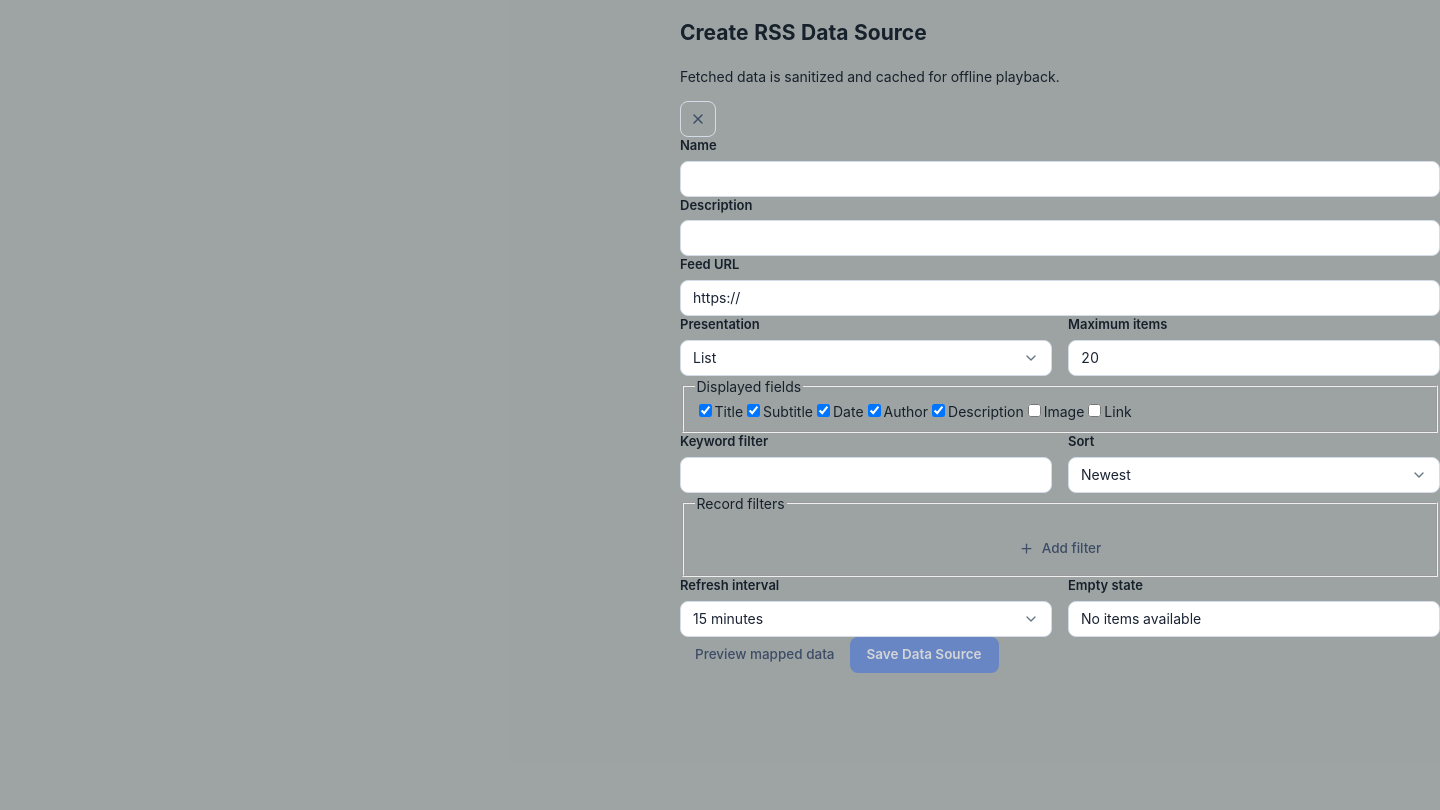
StructuredDataSourceEditor › offers a feed only the fields that feed publishes
The width and height of the screenshot is (1440, 810).
Replace the text in the field labelled "Feed URL" with "https://example.org/feed.xml" at (1060, 298), box [680,280,1439,316]
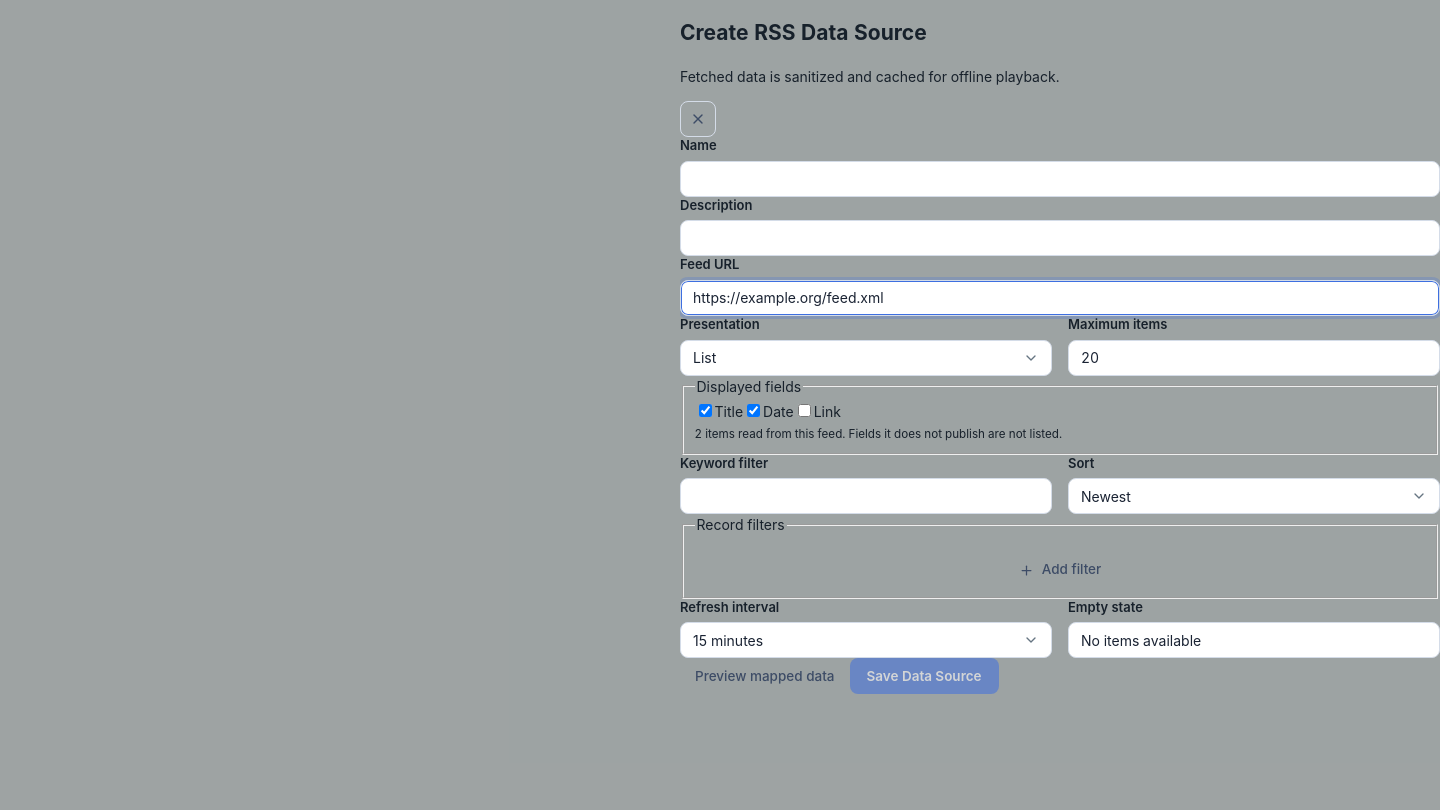
Expected: the checkbox labelled "Title" is shown, [698,404,712,417]
Now the text "2 items read from this feed" is shown, box [694,427,1062,441]
Now the text "Author" is gone
